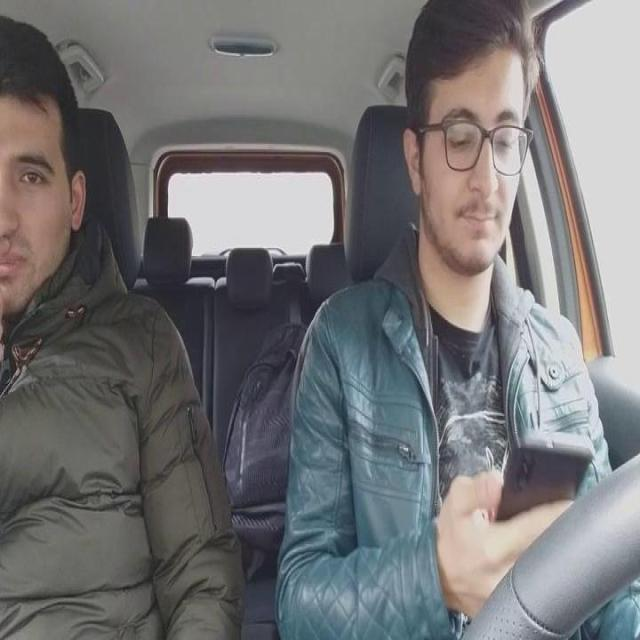phone: (494, 428, 596, 538)
